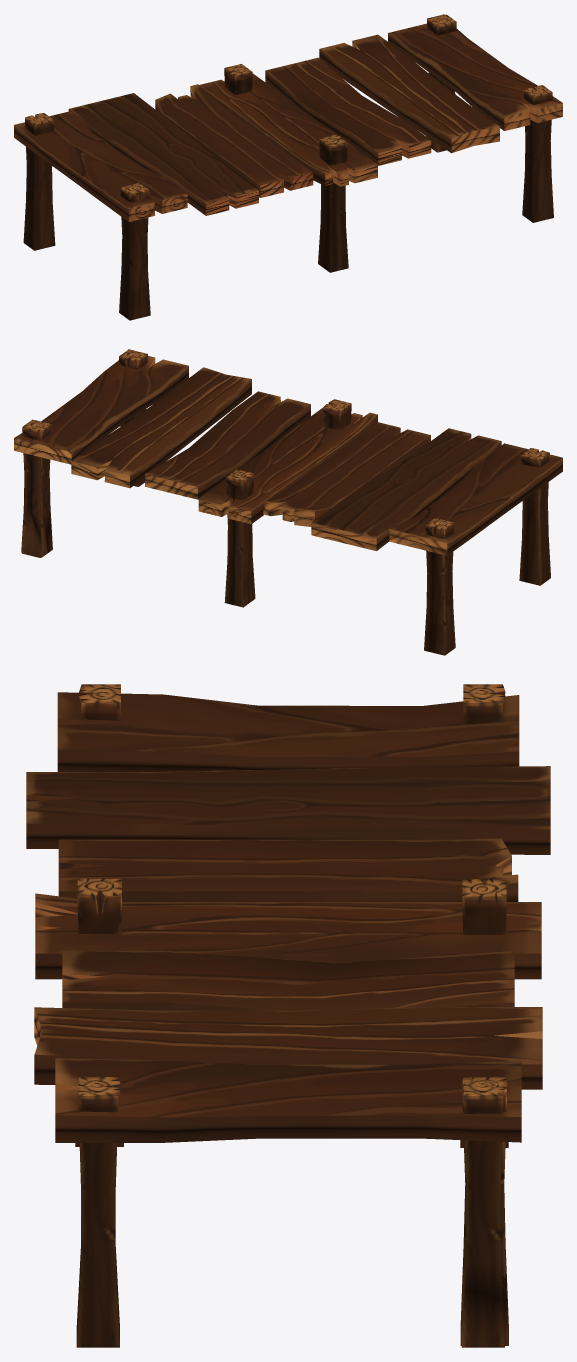
File: Low_Poly_Bridge_e83be4d8.glb
3 views of the same model, one above another, from view 1: azimuth 30°, elevation 25°; view 2: azimuth 150°, elevation 25°; view 3: azimuth 270°, elevation 25° (orthographic). The views are drawn at different scales.
Parts seen in each view (by area): view 1: Cube.001_Material.001_0; view 2: Cube.001_Material.001_0; view 3: Cube.001_Material.001_0.
Boxes of the visible parts, <box> form: Cube.001_Material.001_0: <box>14,14,562,320</box>; Cube.001_Material.001_0: <box>14,349,562,655</box>; Cube.001_Material.001_0: <box>26,684,550,1347</box>.
Size of the model in its own units: 991 by 274 by 519.
Materials: 1 (1 with a texture image).
